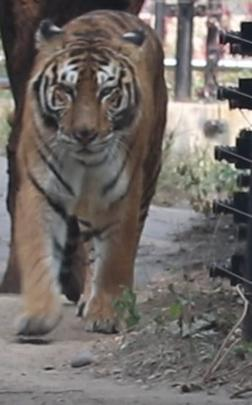tiger: (2, 0, 167, 335)
